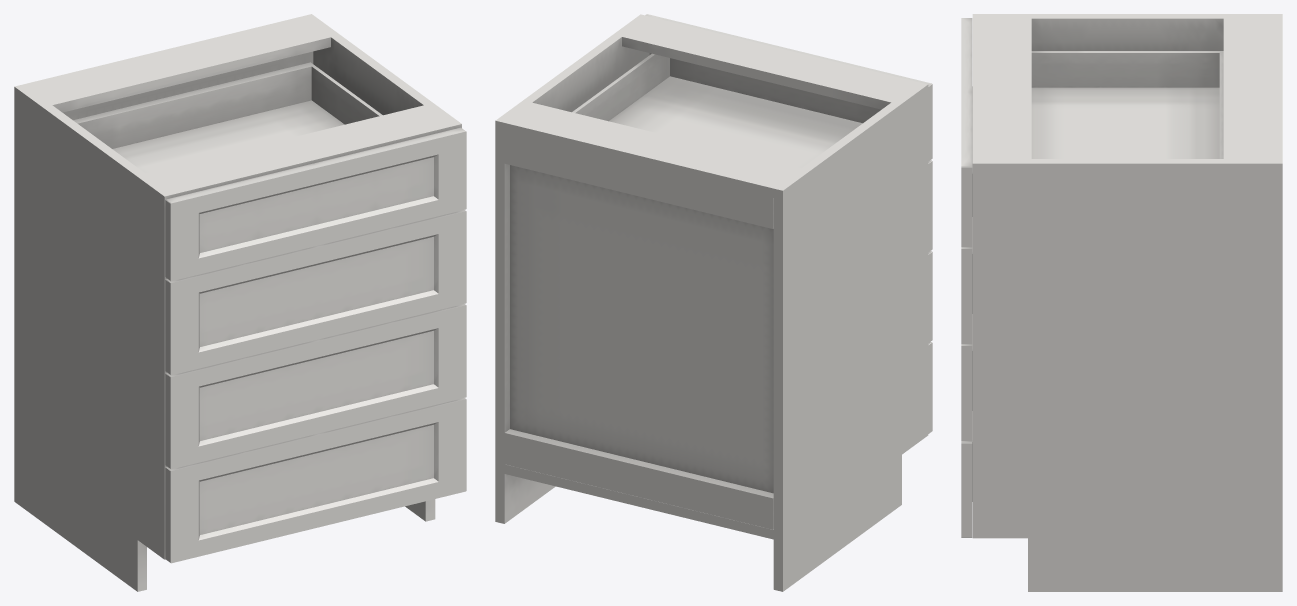
Rendered from 4-drawer-vanity-doors-on.glb.
The picture shows the model from 3 angles, left to right: view 1: azimuth 30°, elevation 25°; view 2: azimuth 150°, elevation 25°; view 3: azimuth 270°, elevation 25°; orthographic projection. The views are drawn at different scales.
Parts seen in each view (by area): view 1: part_35, part_5, part_0; view 2: part_5, part_0, part_35; view 3: part_5, part_0, part_35.
Part boxes in pixels (x1=…): part_35: x1=165, y1=127, x2=466, y2=563; part_5: x1=14, y1=14, x2=461, y2=591; part_0: x1=73, y1=62, x2=382, y2=173; part_5: x1=495, y1=14, x2=928, y2=591; part_0: x1=572, y1=53, x2=862, y2=168; part_35: x1=645, y1=14, x2=932, y2=433; part_5: x1=972, y1=14, x2=1282, y2=591; part_0: x1=972, y1=51, x2=1223, y2=501; part_35: x1=961, y1=18, x2=972, y2=537.
Size of the model in its own units: 0.6096 by 0.8128 by 0.5525.
3 materials, 2 textured.
